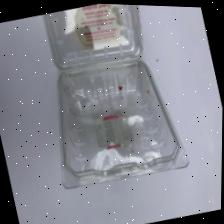plastic: (42, 3, 188, 190)
